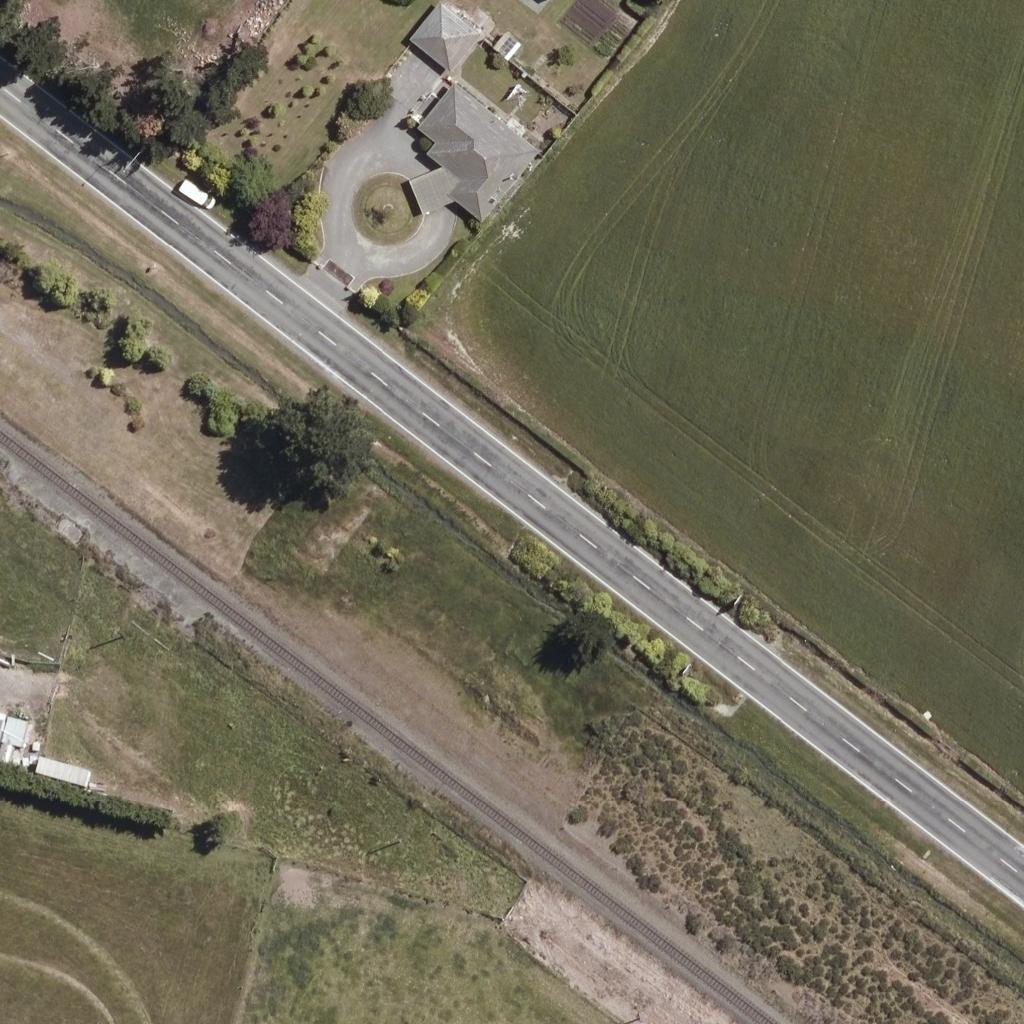car: (182, 179, 216, 213)
